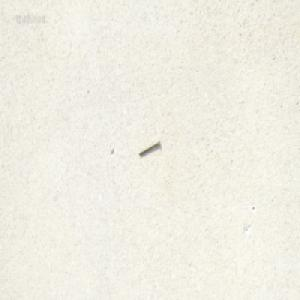Bolt: (138, 138, 160, 157)
